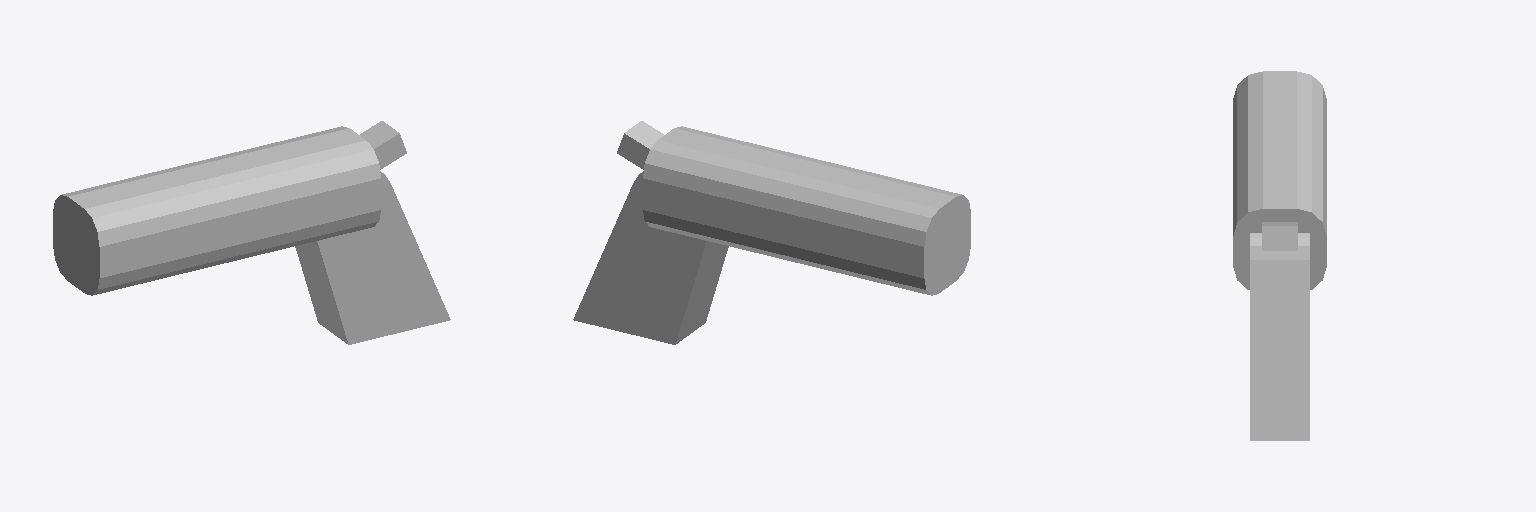
The model's file is Pistol.obj.
The picture shows the model from 3 angles: view 1: azimuth 30°, elevation 25°; view 2: azimuth 150°, elevation 25°; view 3: azimuth 270°, elevation 25°; orthographic projection.
Parts seen in each view (by area): view 1: Pistol_Cube; view 2: Pistol_Cube; view 3: Pistol_Cube.
Part boxes in pixels (x1,y1,x2,y2): Pistol_Cube: (53, 121, 450, 344); Pistol_Cube: (573, 121, 970, 344); Pistol_Cube: (1233, 71, 1326, 440).
Size of the model in its own units: 8.91 by 4.59 by 2.